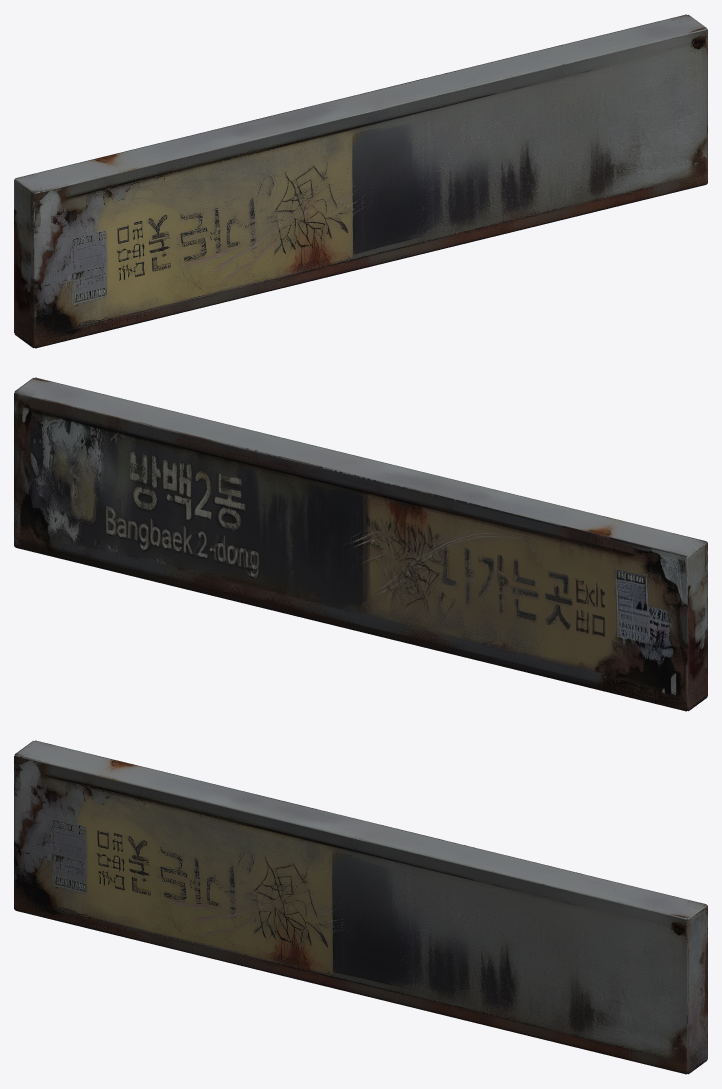
File: Meshy_AI_Dalbit_Manjo_in_Korea_0519040101_texture.fbx
The picture shows the model from 3 angles, top to bottom: view 1: azimuth 30°, elevation 25°; view 2: azimuth 150°, elevation 25°; view 3: azimuth 330°, elevation 25°; orthographic projection.
Parts seen in each view (by area): view 1: Mesh_0; view 2: Mesh_0; view 3: Mesh_0.
Part boxes in pixels (x1,y1,x2,y2): Mesh_0: (14, 14, 707, 348); Mesh_0: (14, 377, 707, 711); Mesh_0: (14, 740, 707, 1074).
Bounding box in the file's own units: 190 × 41.88 × 9.78.
1 material, 1 textured.
